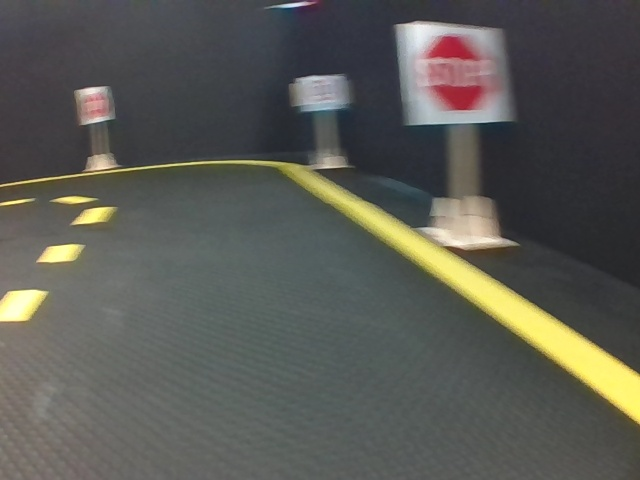30: (301, 76, 341, 106)
stop: (410, 22, 506, 123), (79, 88, 112, 120)
